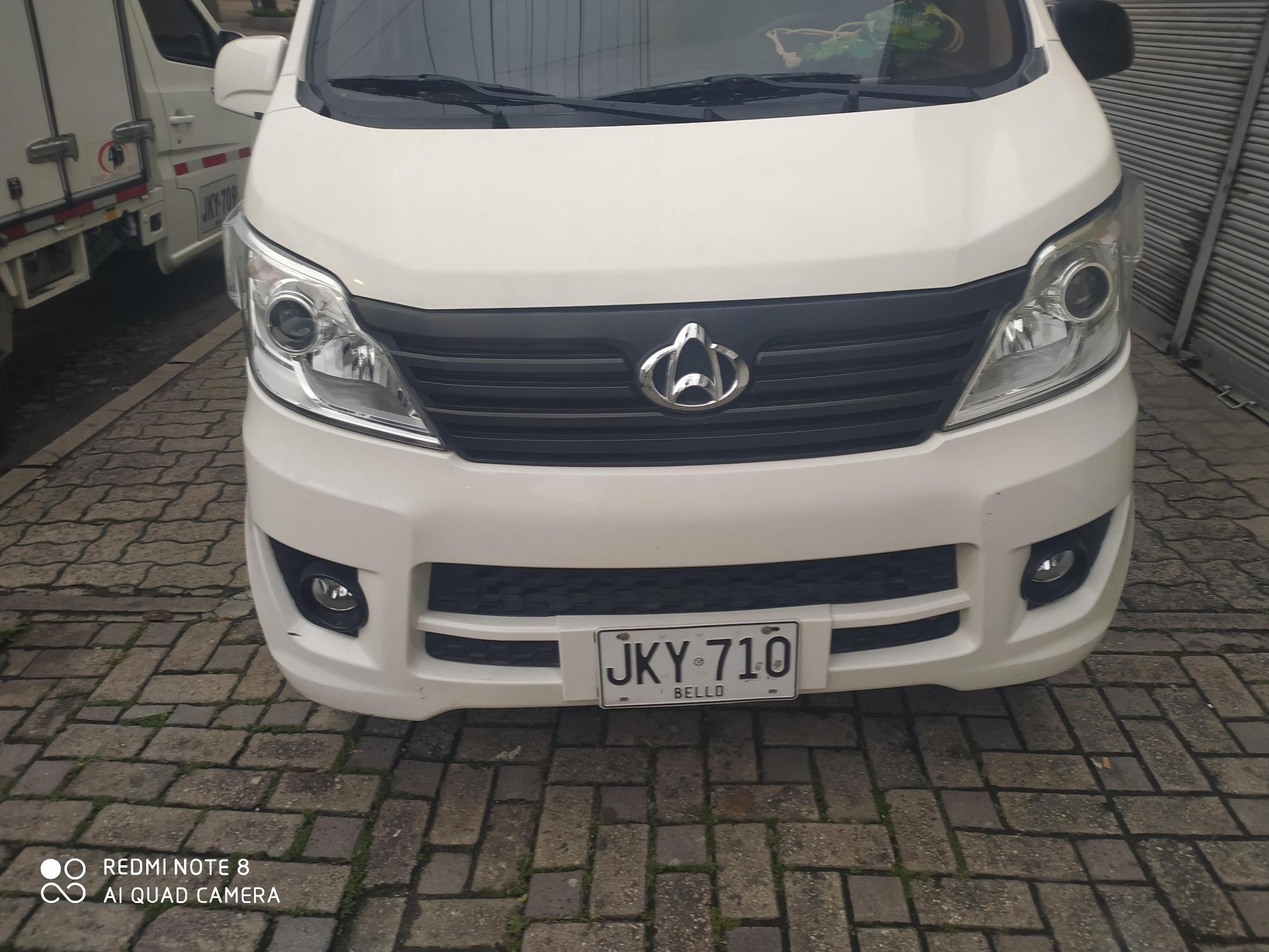placa: (583, 617, 804, 713)
